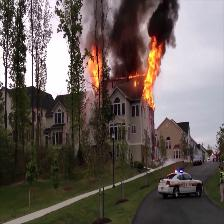fire: (141, 43, 163, 100), (91, 53, 106, 87)
smoke: (111, 2, 140, 71), (153, 2, 175, 36)
